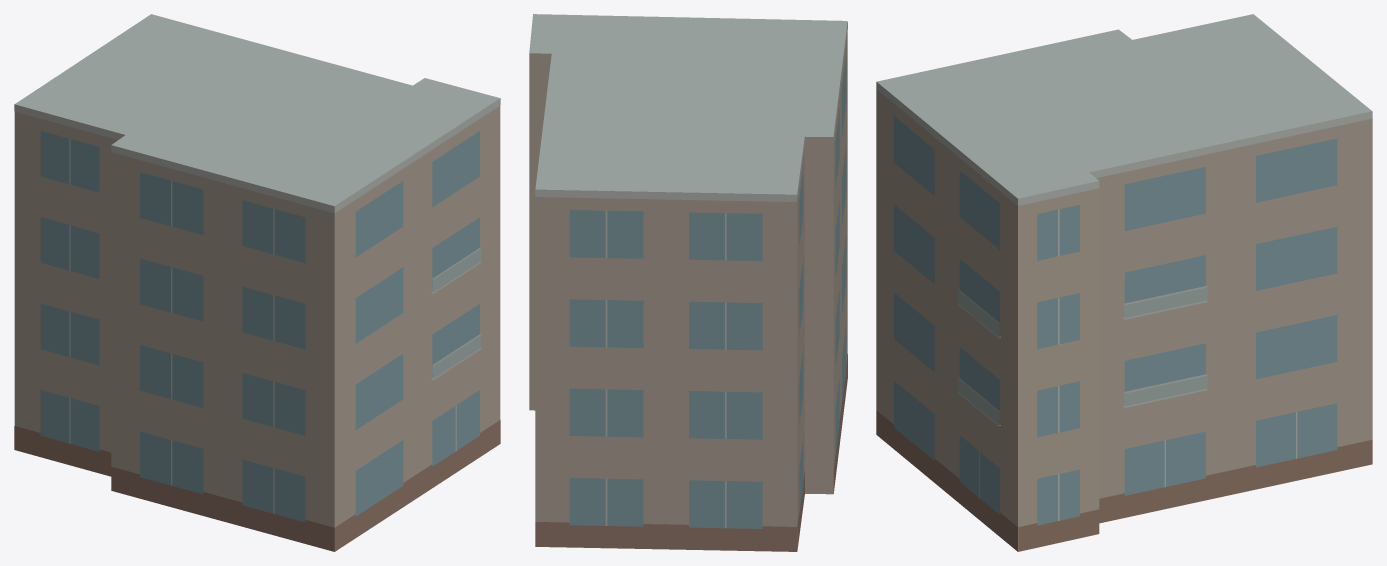
Rendered from survey-upis-32744219.glb.
3 renders of one model, left to right at view 1: azimuth 30°, elevation 25°; view 2: azimuth 150°, elevation 25°; view 3: azimuth 270°, elevation 25°, orthographic. The views are drawn at different scales.
Visible parts, largest first — view 1: survey-upis-32744219.tmp; view 2: survey-upis-32744219.tmp; view 3: survey-upis-32744219.tmp.
Part boxes in pixels (left/top/right/bottom): survey-upis-32744219.tmp: left=14, top=14, right=500, bottom=551; survey-upis-32744219.tmp: left=529, top=14, right=847, bottom=551; survey-upis-32744219.tmp: left=876, top=14, right=1372, bottom=551.
Bounding box in the file's own units: 13.26 × 11.8 × 15.04.
